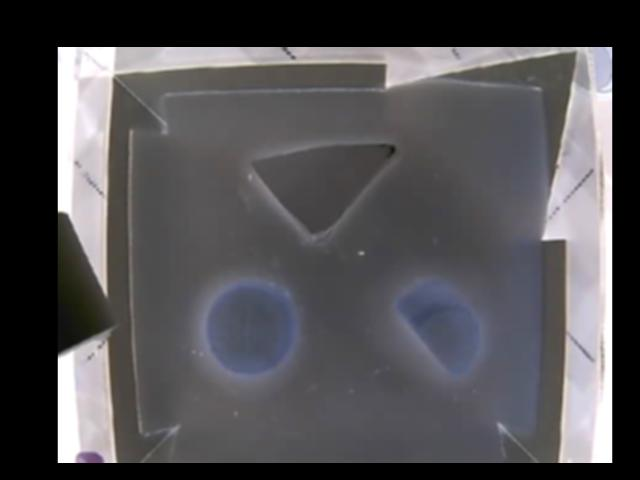China: (250, 139, 398, 242)
Mooli: (392, 275, 483, 378), (206, 277, 295, 371)
